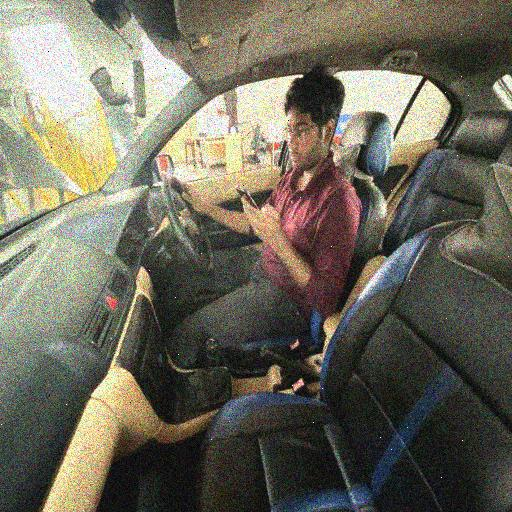Texting_on_phone: (172, 70, 358, 332)
